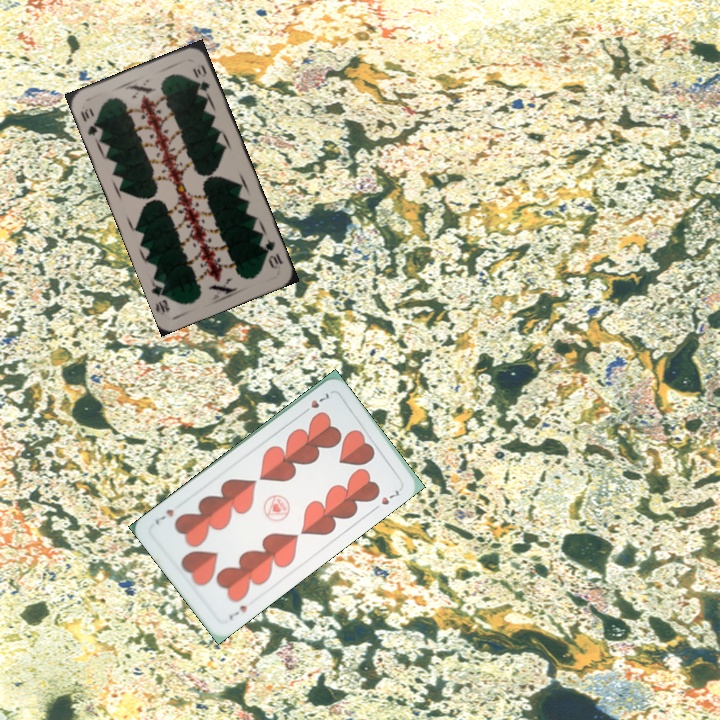G10: (76, 104, 105, 140), (260, 235, 285, 271)
H7: (298, 389, 332, 417), (225, 601, 250, 622)
